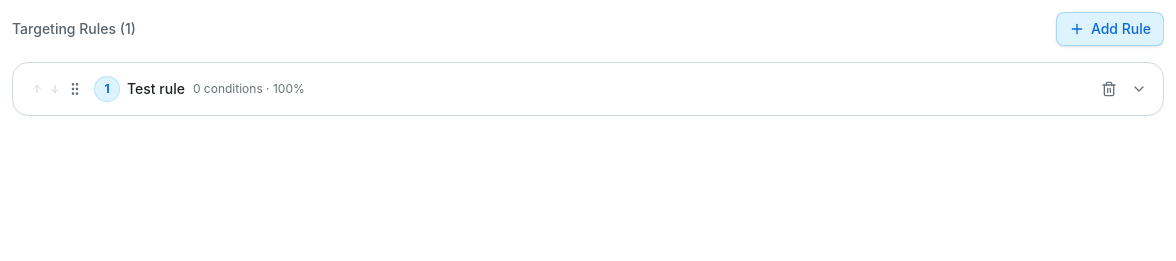
Test: VisualRuleBuilder › shows delete confirmation and removes rule
The image size is (1176, 261).
# Click delete button
Click the button named "Delete rule": (1109, 89) left=1095, top=75, right=1123, bottom=103
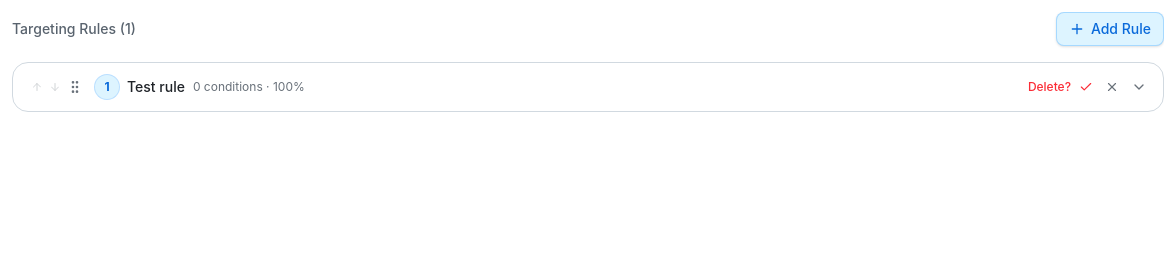
# Confirm delete
Click the button named "Confirm delete": (1086, 87) left=1075, top=76, right=1097, bottom=98
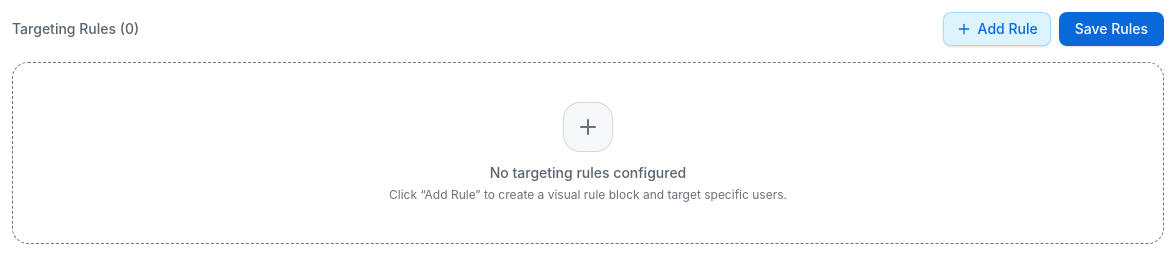
expect the text "No targeting rules configured" is shown: met, box left=490, top=164, right=686, bottom=181
